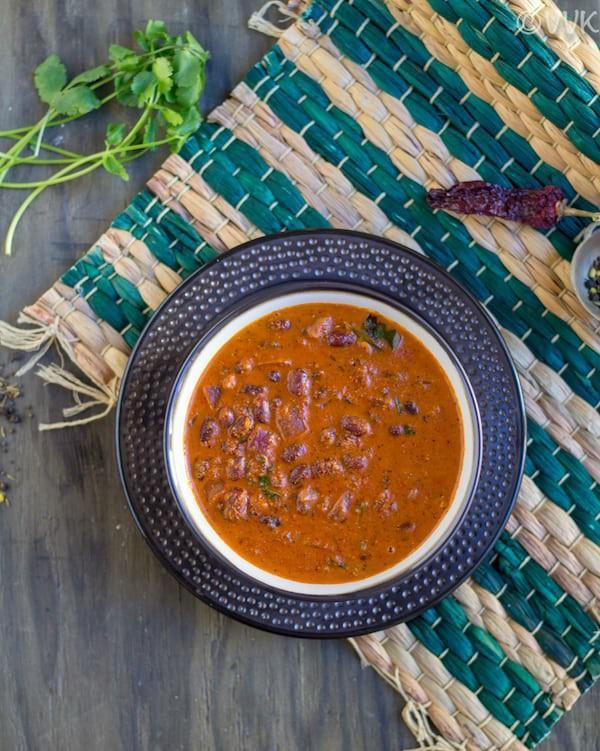RajmaCurry: (186, 301, 461, 585)
